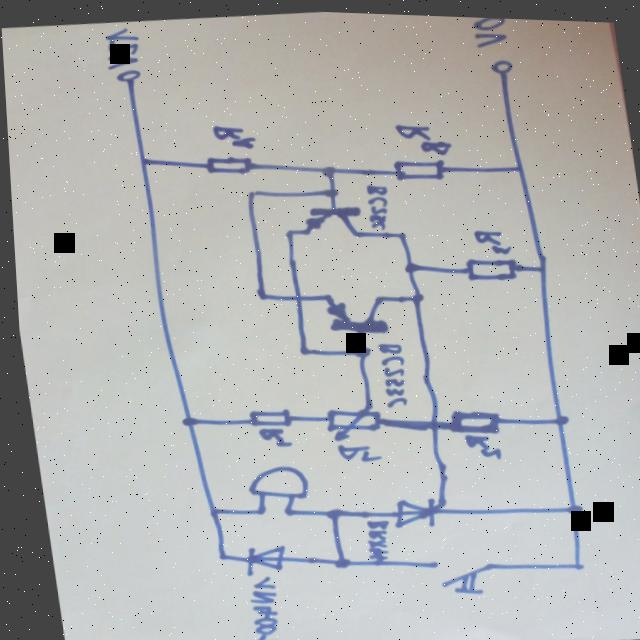crossover: (420, 412, 435, 428), (286, 287, 302, 301)
diode: (234, 540, 281, 575)
junction: (346, 339, 368, 356), (316, 502, 338, 518), (398, 254, 416, 271), (316, 159, 336, 174), (324, 552, 345, 566), (403, 286, 422, 300), (558, 497, 578, 510), (174, 412, 191, 426), (291, 341, 309, 354), (248, 286, 266, 299), (320, 183, 338, 196), (546, 409, 564, 420), (198, 502, 214, 514), (207, 548, 222, 560), (273, 502, 289, 513), (279, 224, 293, 235), (134, 153, 146, 165), (564, 555, 578, 565), (247, 503, 262, 512), (532, 258, 544, 269), (241, 185, 254, 195), (392, 226, 405, 235), (511, 158, 522, 167)
resistor: (316, 397, 378, 440), (441, 400, 497, 433), (457, 249, 515, 280), (387, 151, 446, 180), (201, 149, 253, 175), (240, 402, 288, 427)
switch: (425, 551, 488, 594)
terminal: (112, 65, 142, 82), (487, 52, 513, 71)
text: (234, 570, 275, 640), (390, 114, 451, 155), (370, 336, 406, 405), (100, 23, 142, 69), (208, 117, 255, 150), (360, 178, 391, 228), (355, 514, 387, 558), (456, 426, 497, 458), (468, 221, 509, 251), (329, 436, 378, 461), (469, 14, 509, 44), (250, 421, 288, 447)
thyristor: (382, 489, 445, 528)
transistor: (318, 283, 385, 334), (296, 198, 363, 238)
